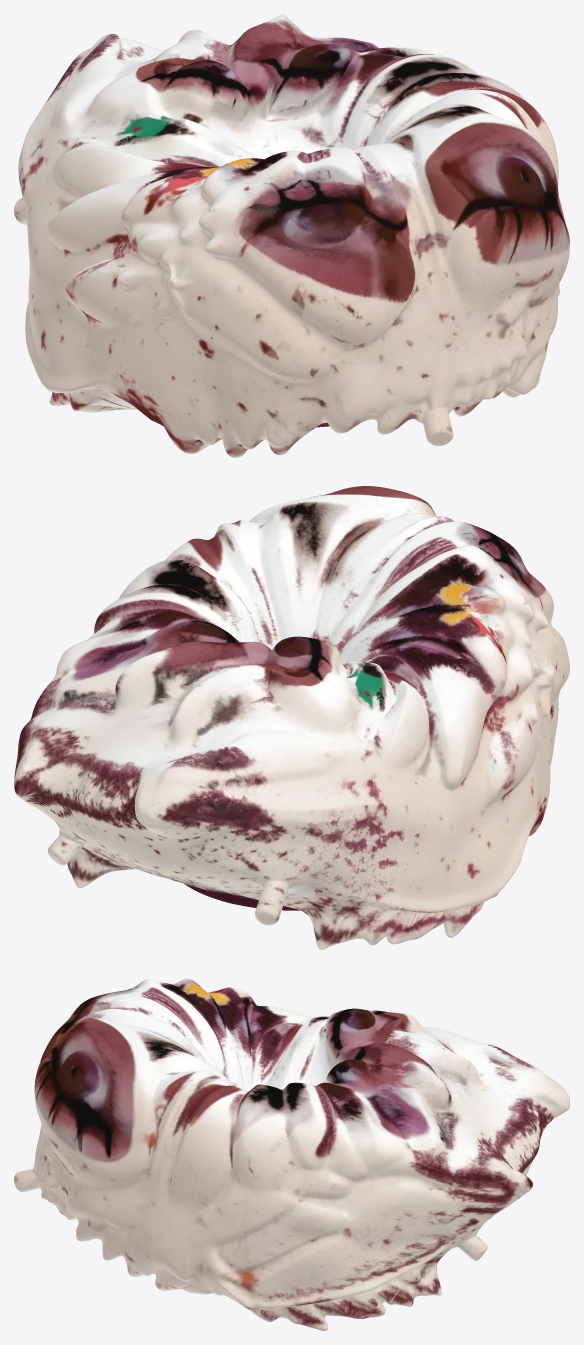
File: huilin-li.glb
3 renders of one model, top to bottom at view 1: azimuth 30°, elevation 25°; view 2: azimuth 150°, elevation 25°; view 3: azimuth 270°, elevation 25°, orthographic. The views are drawn at different scales.
Visible parts, largest first — view 1: mesh_node; view 2: mesh_node; view 3: mesh_node.
Part boxes in pixels (<box>): mesh_node: <box>14,14,569,457</box>; mesh_node: <box>14,486,569,949</box>; mesh_node: <box>14,978,569,1330</box>.
Bounding box in the file's own units: 1.41 × 0.9147 × 1.9.
1 material, 1 textured.
